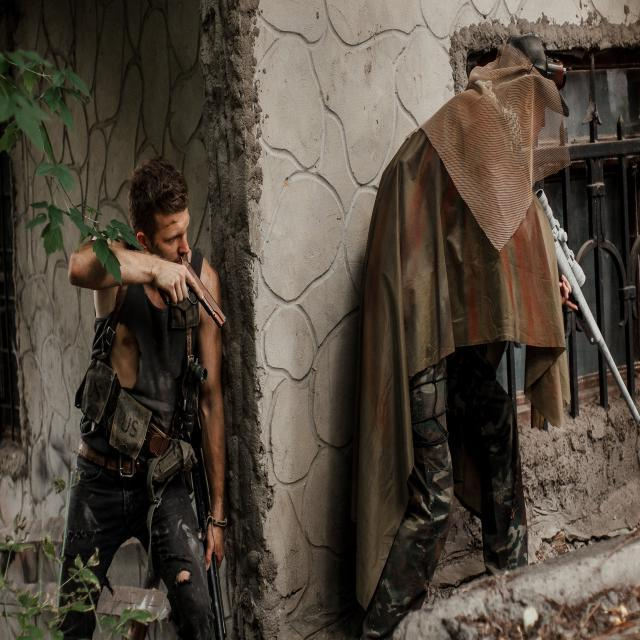Gun: (537, 190, 640, 425), (174, 272, 226, 329)
